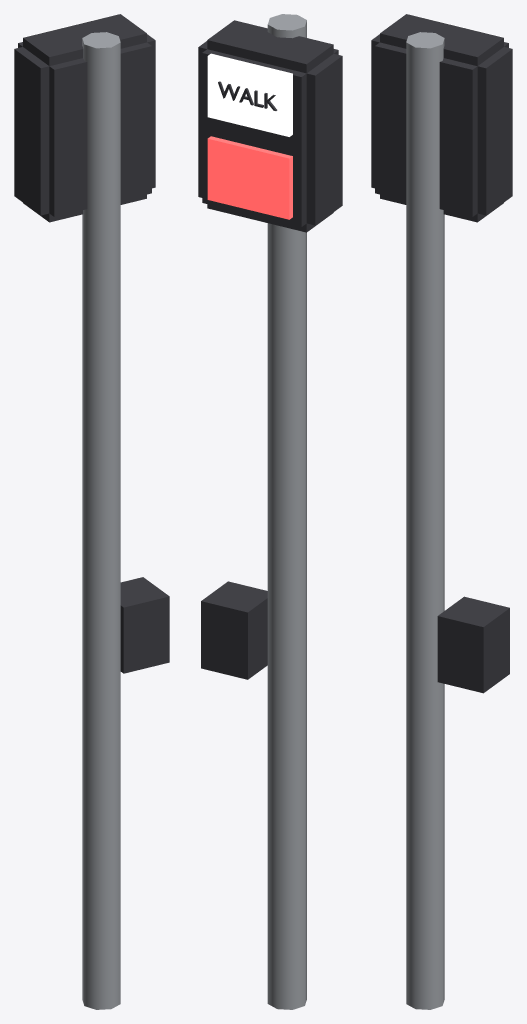
The model's file is traffic_signal.glb.
The picture shows the model from 3 angles, left to right: view 1: azimuth 30°, elevation 25°; view 2: azimuth 150°, elevation 25°; view 3: azimuth 330°, elevation 25°; orthographic projection.
Visible parts, largest first — view 1: traffic_signal; view 2: traffic_signal; view 3: traffic_signal.
Boxes of the visible parts, x1,y1,x2,y2 form: traffic_signal: [14, 14, 169, 1009]; traffic_signal: [198, 14, 342, 1009]; traffic_signal: [371, 14, 512, 1009].
Bounding box in the file's own units: 0.42 × 3.2 × 0.299.
